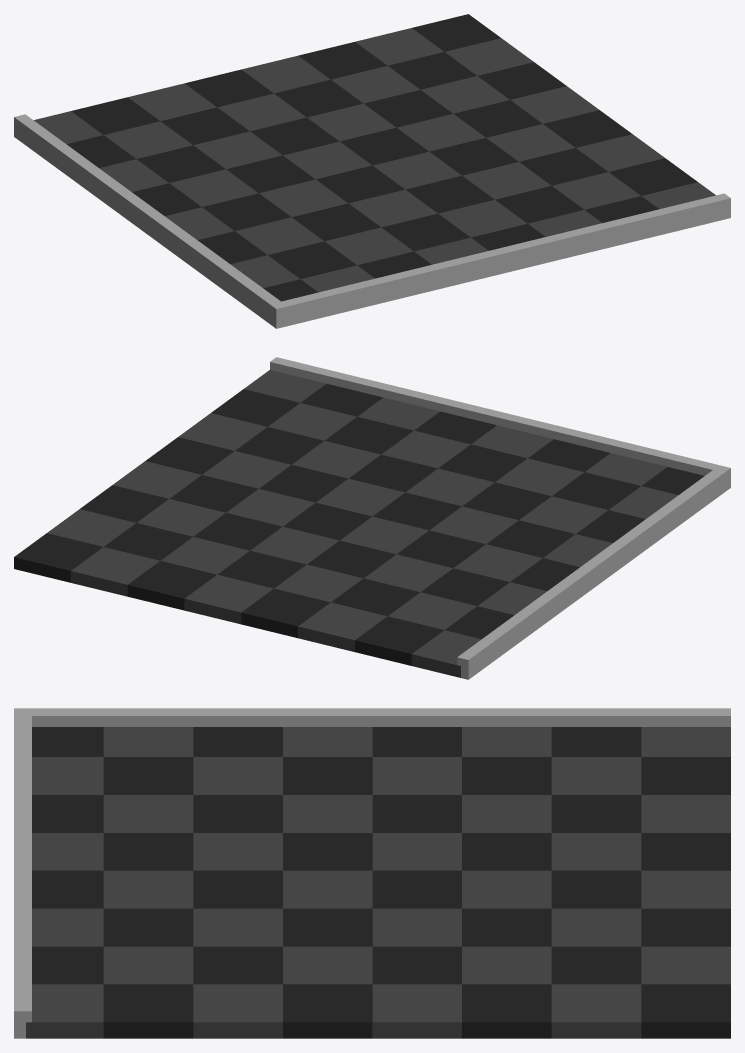
File: Floor_1.obj
3 renders of one model, top to bottom at view 1: azimuth 30°, elevation 25°; view 2: azimuth 150°, elevation 25°; view 3: azimuth 270°, elevation 25°, orthographic. The views are drawn at different scales.
Bounding box in the file's own units: 120 × 5 × 120.
